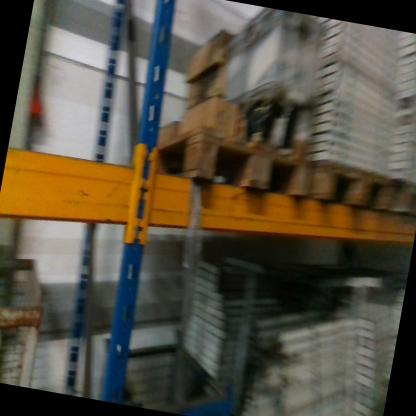pallet: (140, 102, 313, 207), (306, 150, 393, 218)
stillage: (89, 307, 257, 416), (0, 235, 71, 387)
